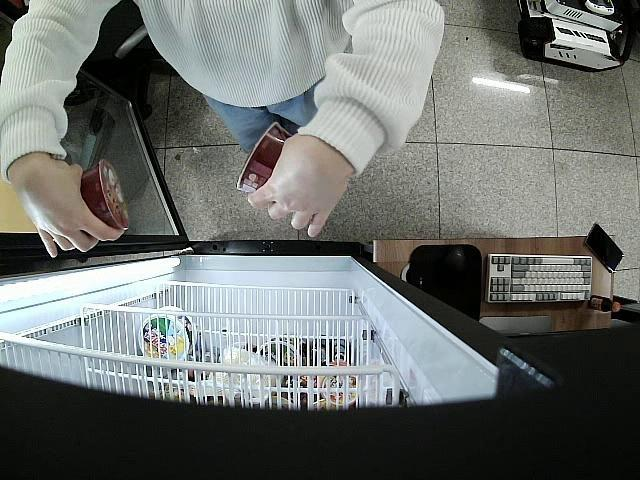06_nuguri_S: (238, 122, 294, 194), (81, 158, 130, 240)
